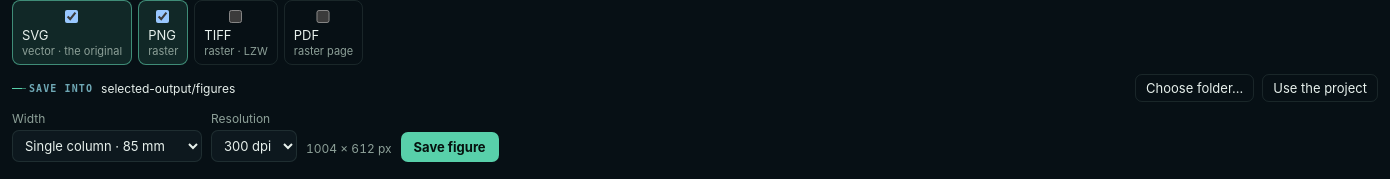
Test case: can be sent back to the project after choosing a folder
Click the button "Choose folder…": {"x": 1195, "y": 88} [1135,74,1254,102]
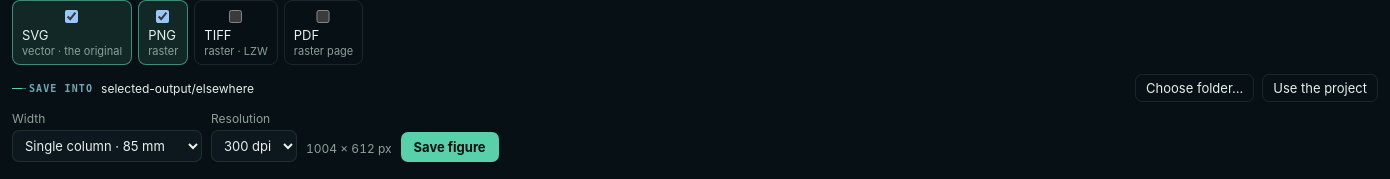
Check: the text "selected-output/elsewhere" is shown, box [101,80,254,96]
Click the button "Use the project": {"x": 1320, "y": 88} [1262,74,1378,102]
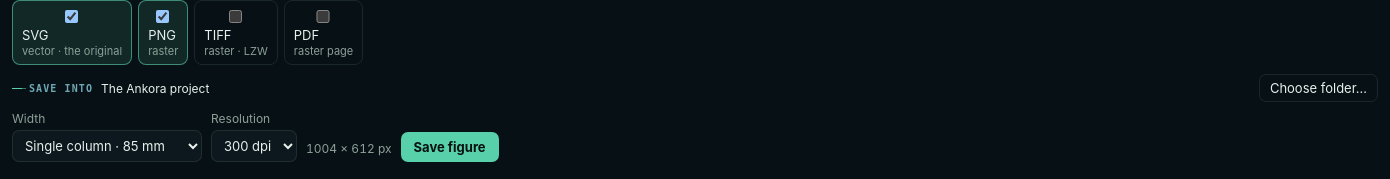
Check: the text "The Ankora project" is shown, box [101,80,209,96]
